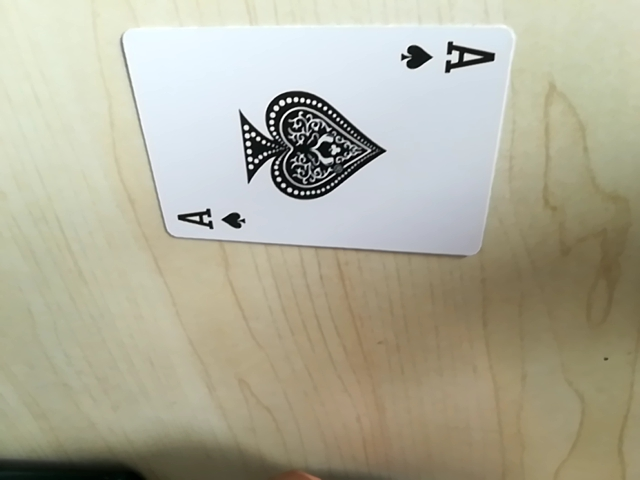ht a: (397, 34, 499, 80), (169, 203, 251, 237)
